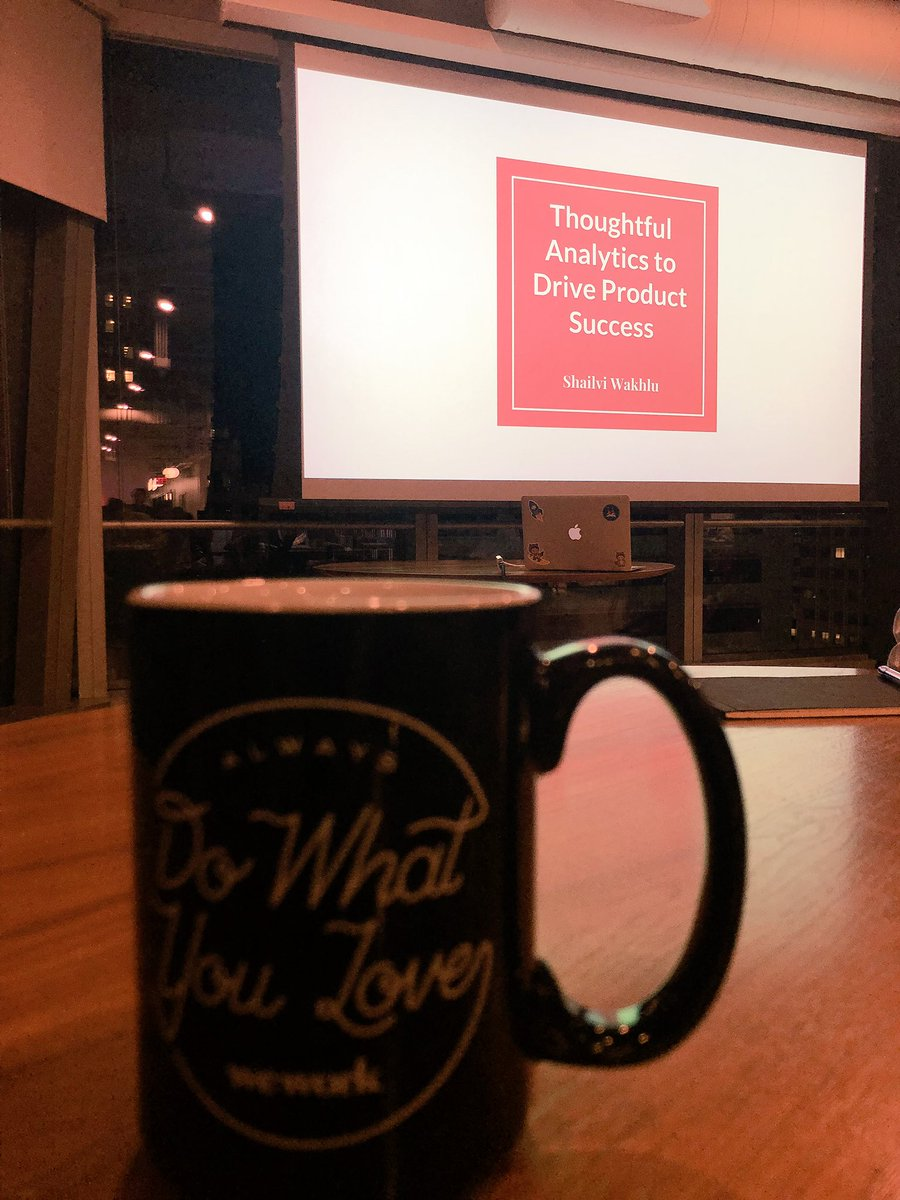wework: (218, 1051, 392, 1103)
